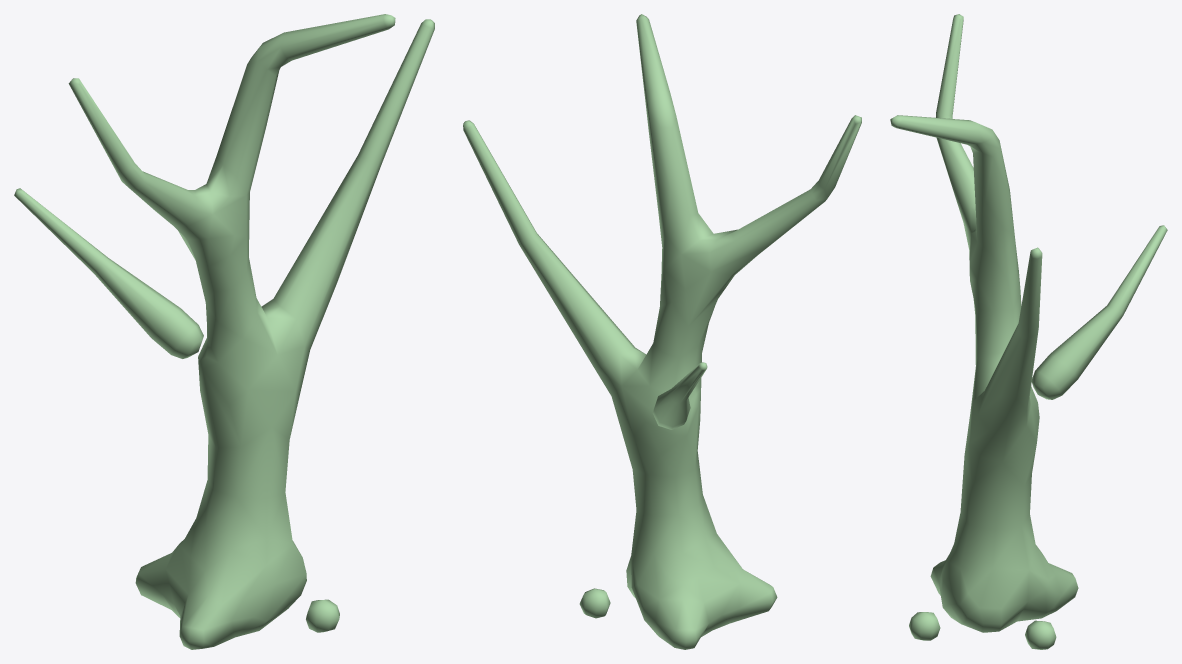
Rendered from prop_dead_tree.glb.
3 views of the same model, side by side, from view 1: azimuth 30°, elevation 25°; view 2: azimuth 150°, elevation 25°; view 3: azimuth 270°, elevation 25° (orthographic). The views are drawn at different scales.
Parts seen in each view (by area): view 1: prop_dead_tree; view 2: prop_dead_tree; view 3: prop_dead_tree.
Part boxes in pixels (<box>): prop_dead_tree: <box>14,14,434,649</box>; prop_dead_tree: <box>463,14,861,649</box>; prop_dead_tree: <box>890,14,1167,649</box>.
Bounding box in the file's own units: 2.43 × 3.53 × 1.62.
